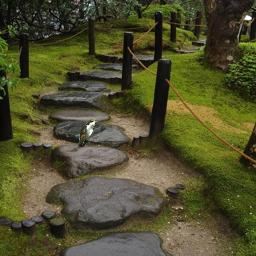Cuckoo: (78, 119, 98, 147)
